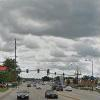Traffic light: (20, 62, 63, 80)
